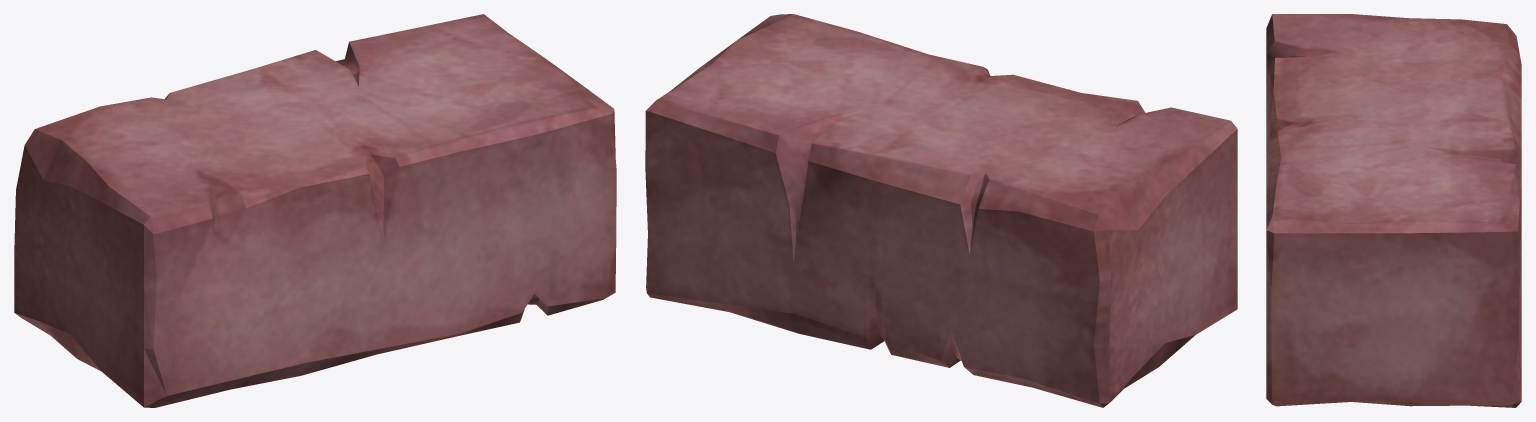
The model's file is SM_ENV_KNFRST_Stone_A.FBX.
3 views of the same model, side by side, from view 1: azimuth 30°, elevation 25°; view 2: azimuth 150°, elevation 25°; view 3: azimuth 270°, elevation 25° (orthographic). The views are drawn at different scales.
Parts seen in each view (by area): view 1: SM_ENV_KNFRST_Stone_A; view 2: SM_ENV_KNFRST_Stone_A; view 3: SM_ENV_KNFRST_Stone_A.
Part boxes in pixels (bbox=[...]): SM_ENV_KNFRST_Stone_A: bbox=[14, 14, 616, 407]; SM_ENV_KNFRST_Stone_A: bbox=[645, 14, 1237, 407]; SM_ENV_KNFRST_Stone_A: bbox=[1266, 14, 1521, 407].
Bounding box in the file's own units: 85.68 × 34.36 × 42.82.
